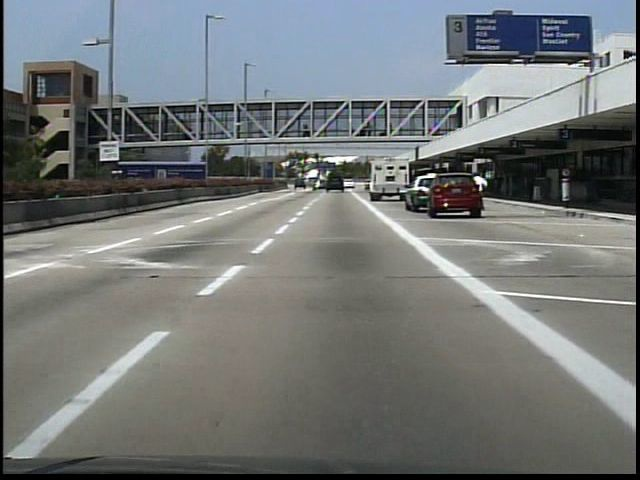person: (471, 171, 490, 212)
